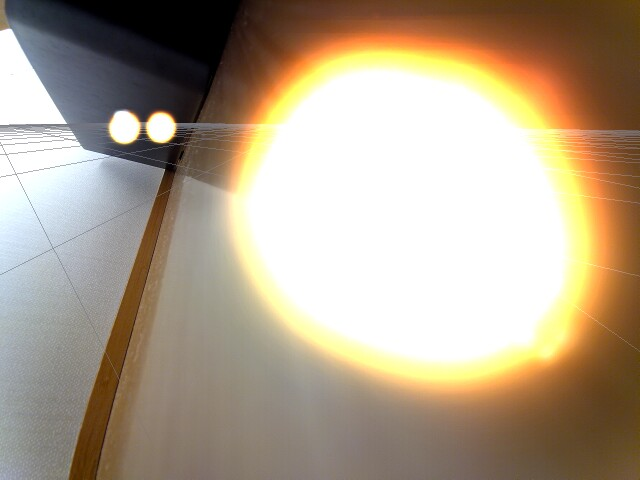fire: (225, 37, 600, 392), (107, 108, 142, 144), (145, 108, 178, 145)
